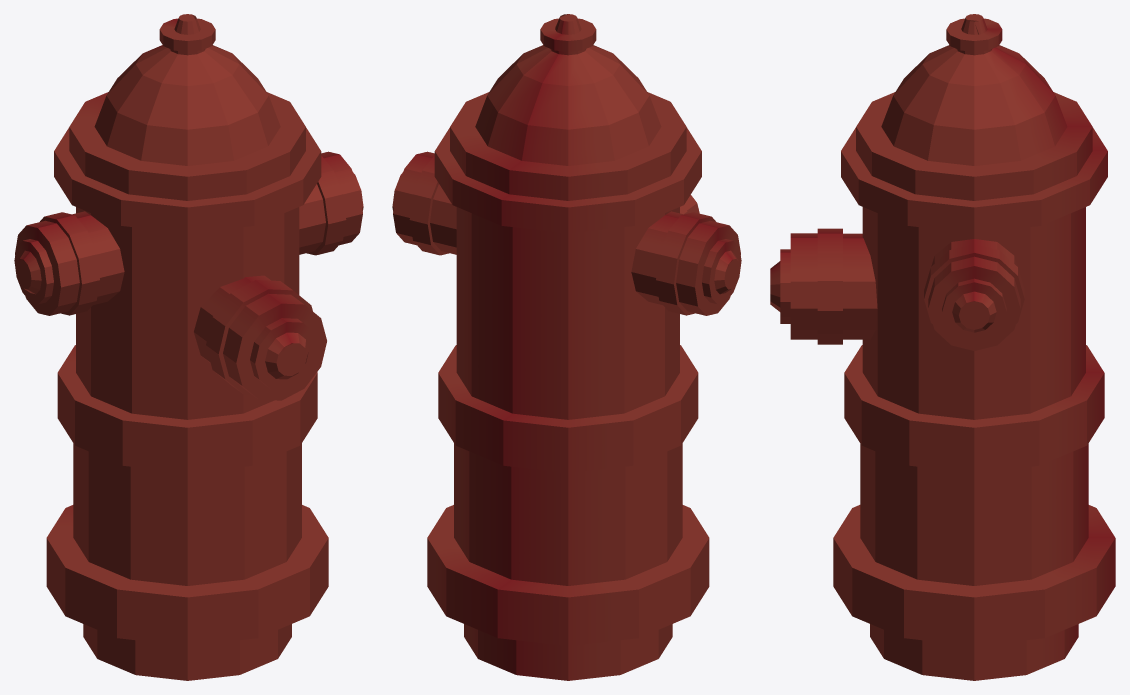
The model's file is Hydrant.fbx.
3 renders of one model, left to right at view 1: azimuth 30°, elevation 25°; view 2: azimuth 150°, elevation 25°; view 3: azimuth 270°, elevation 25°, orthographic.
Visible parts, largest first — view 1: Hydrant; view 2: Hydrant; view 3: Hydrant.
Boxes of the visible parts, bbox=[...] form: Hydrant: bbox=[14, 14, 363, 680]; Hydrant: bbox=[392, 14, 741, 680]; Hydrant: bbox=[770, 14, 1115, 680].
Size of the model in its own units: 33.88 by 60.62 by 30.62.
1 material, 1 textured.
